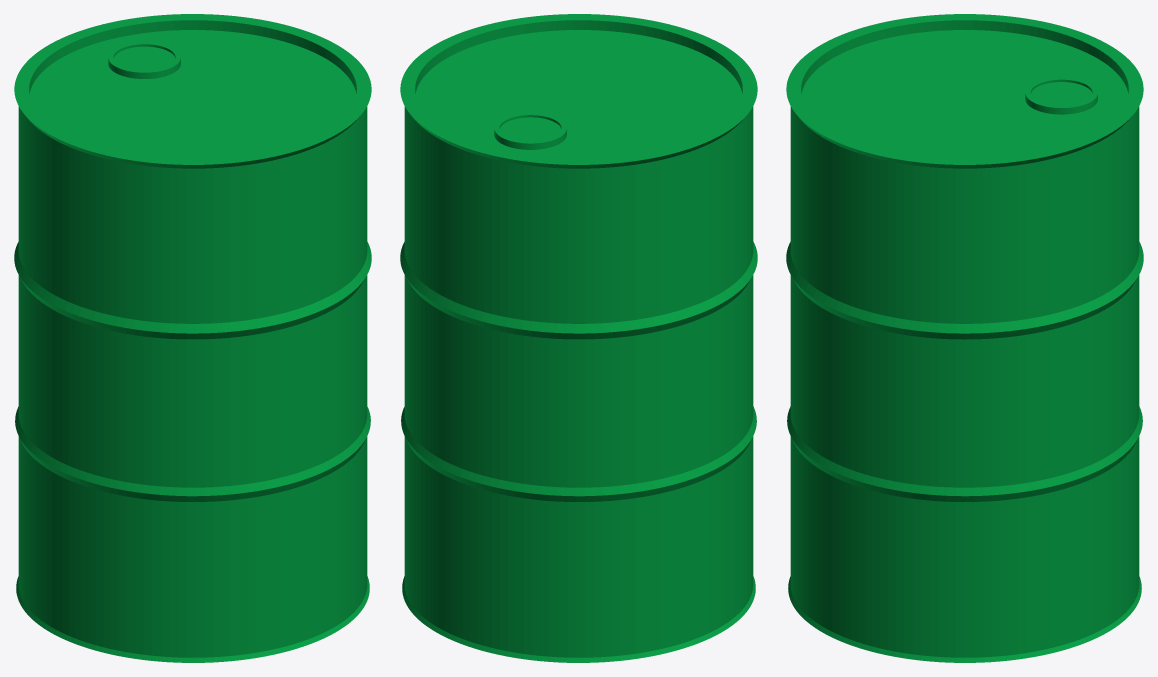
The model's file is green_barrel.glb.
The picture shows the model from 3 angles, left to right: view 1: azimuth 30°, elevation 25°; view 2: azimuth 150°, elevation 25°; view 3: azimuth 270°, elevation 25°; orthographic projection.
Parts seen in each view (by area): view 1: Cylinder; view 2: Cylinder; view 3: Cylinder.
Boxes of the visible parts, bbox=[...] form: Cylinder: bbox=[14, 14, 371, 662]; Cylinder: bbox=[400, 14, 757, 662]; Cylinder: bbox=[786, 14, 1143, 662].
Bounding box in the file's own units: 2.05 × 3.16 × 2.05.
